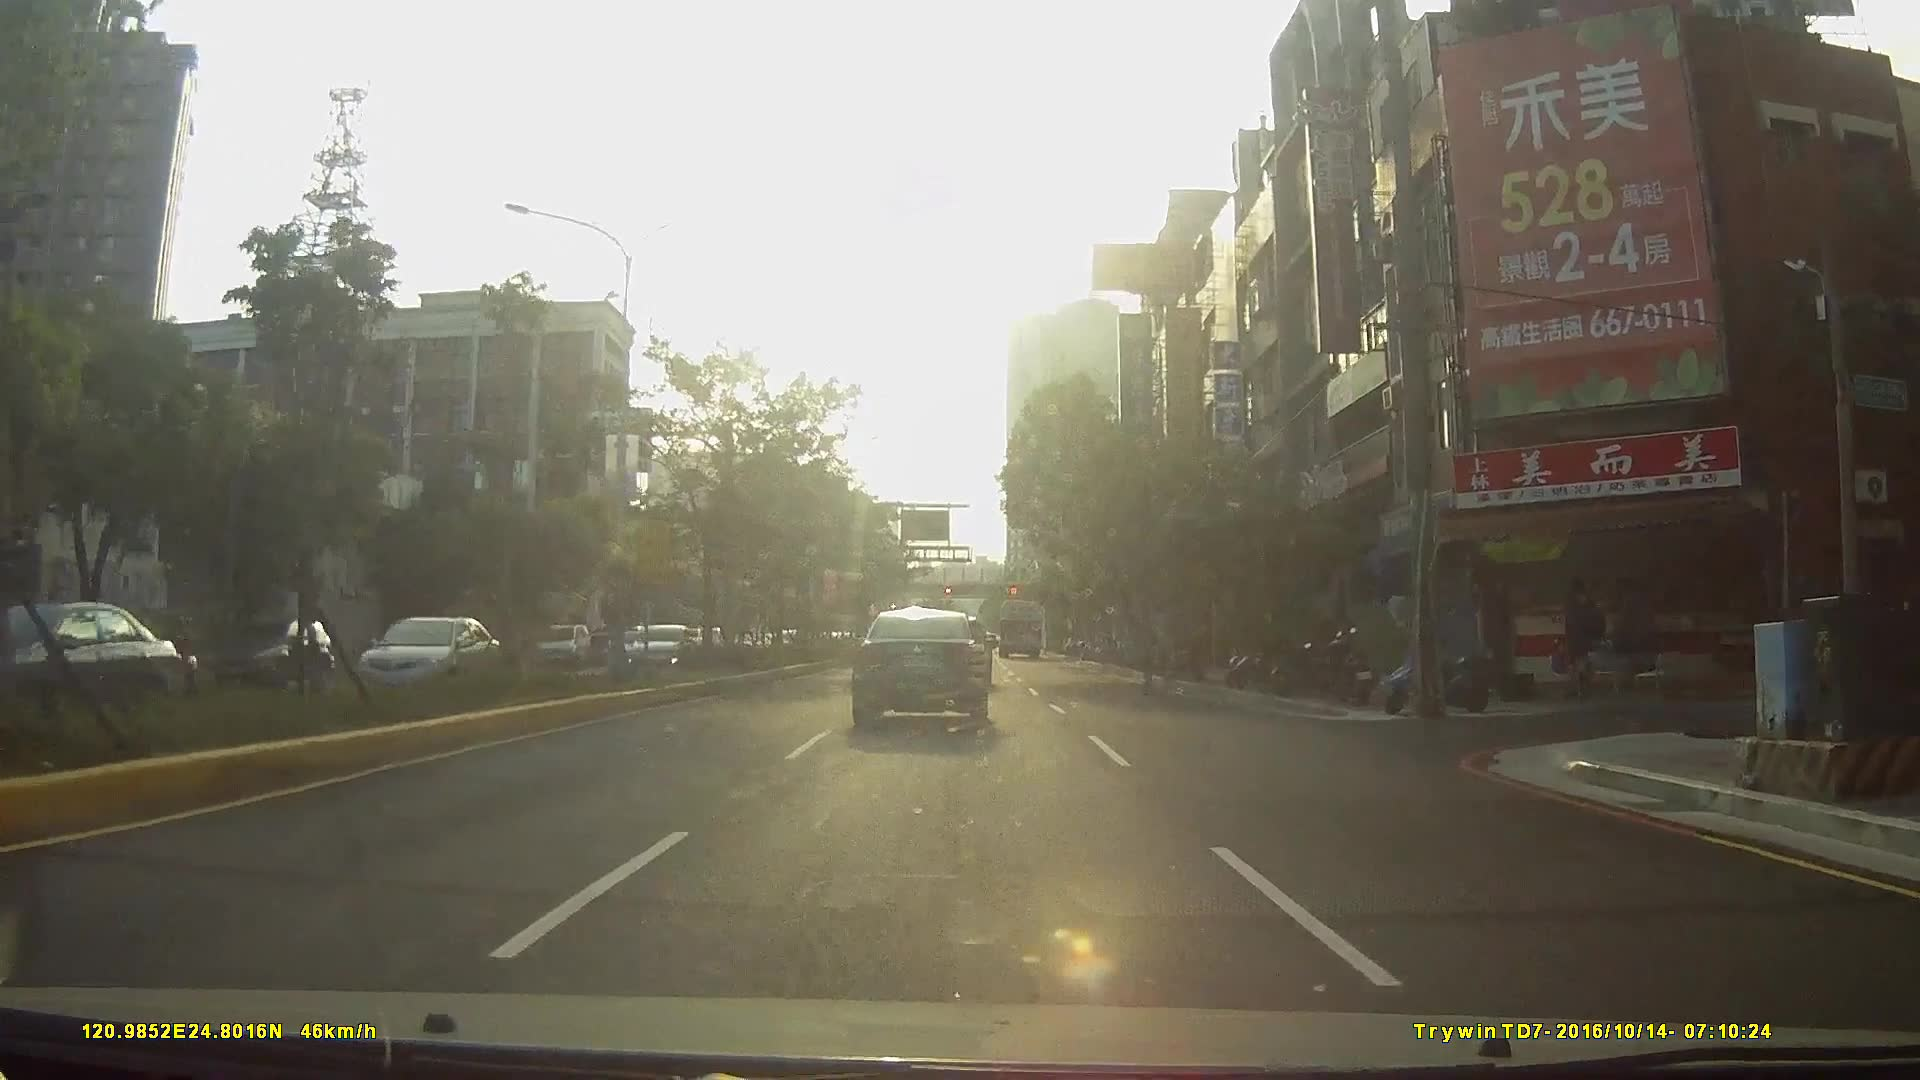pedestrian: (1135, 611, 1173, 693)
vehicle: (1, 603, 202, 743), (342, 603, 508, 725), (849, 607, 992, 731), (205, 618, 328, 690), (4, 619, 102, 705), (611, 621, 704, 675), (996, 596, 1043, 658), (533, 621, 591, 666)
